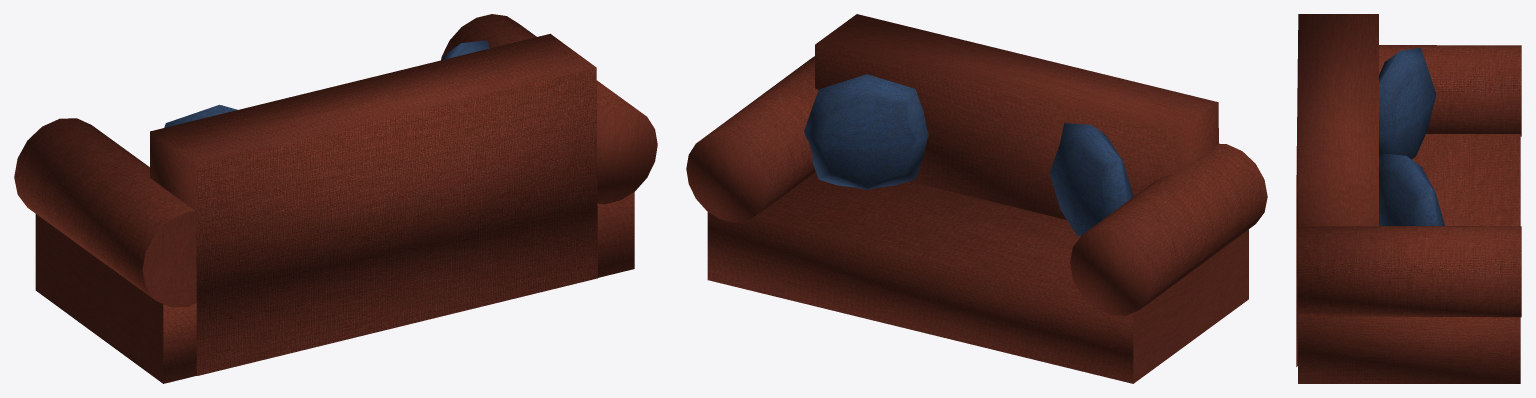
Rendered from Couch.FBX.
3 renders of one model, left to right at view 1: azimuth 30°, elevation 25°; view 2: azimuth 150°, elevation 25°; view 3: azimuth 270°, elevation 25°, orthographic. The views are drawn at different scales.
Visible parts, largest first — view 1: Box002; view 2: Box002, Box004, Box003; view 3: Box002, Box003, Box004.
Part boxes in pixels (x1,y1,x2,y2): Box002: [14, 14, 657, 383]; Box002: [686, 14, 1267, 383]; Box004: [804, 74, 928, 189]; Box003: [1049, 123, 1133, 237]; Box002: [1296, 14, 1521, 383]; Box003: [1379, 47, 1436, 167]; Box004: [1379, 153, 1444, 225].
Size of the model in its own units: 64.34 by 25.1 by 27.96.
